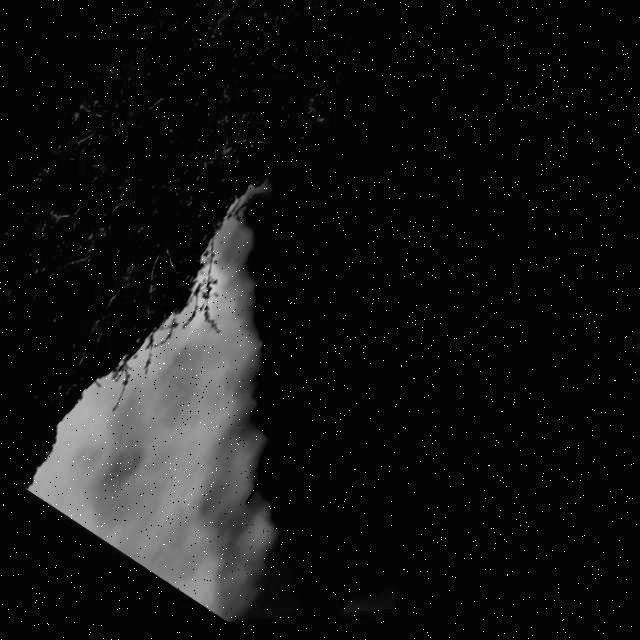Smoke: (44, 0, 640, 637)
